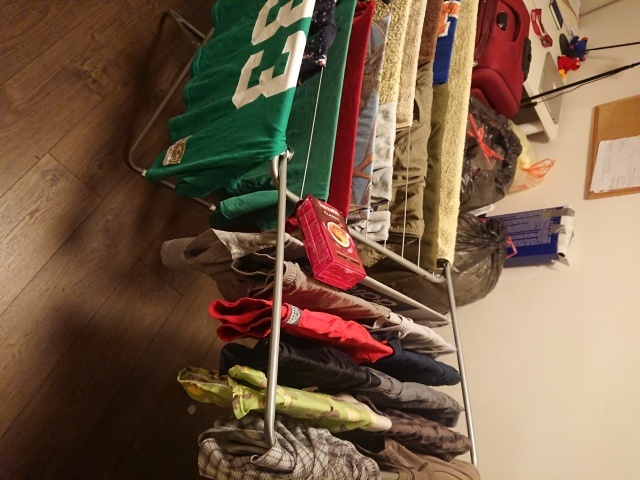Barcaffe Classic Original 225g: (293, 192, 368, 294)
